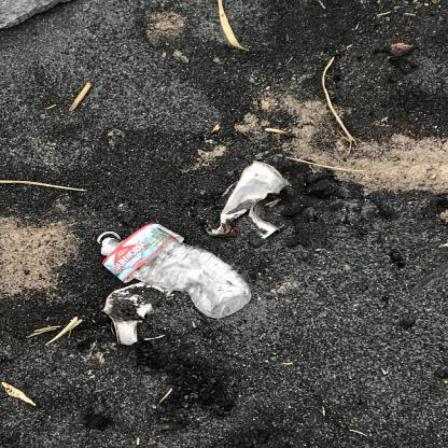Bottle: (103, 224, 253, 320)
Can: (205, 163, 289, 242), (104, 282, 176, 346)
Other plastic: (99, 233, 124, 245)
